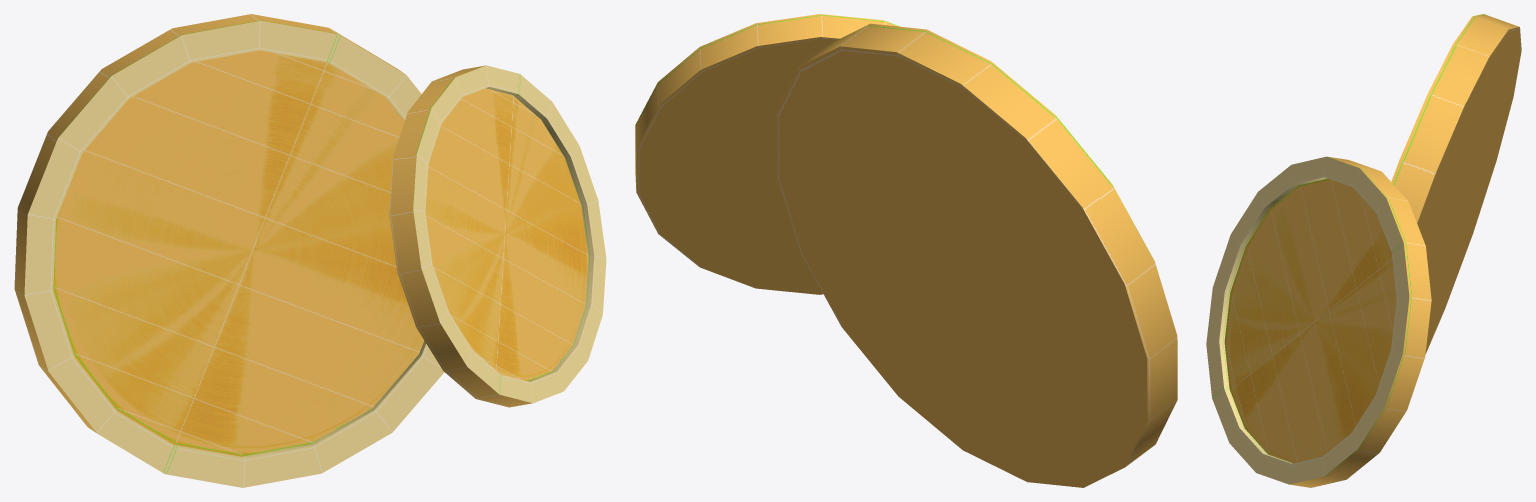
Rendered from Money Coin.fbx.
3 views of the same model, side by side, from view 1: azimuth 30°, elevation 25°; view 2: azimuth 150°, elevation 25°; view 3: azimuth 270°, elevation 25° (orthographic). The views are drawn at different scales.
Visible parts, largest first — view 1: Cylinder013, Cylinder015; view 2: Cylinder013, Cylinder015; view 3: Cylinder015, Cylinder013.
Part boxes in pixels (box(x1,y1,x2,y2)): Cylinder013: box(14, 14, 444, 487); Cylinder015: box(389, 65, 606, 407); Cylinder013: box(776, 23, 1177, 487); Cylinder015: box(635, 14, 899, 294); Cylinder015: box(1206, 156, 1431, 487); Cylinder013: box(1391, 14, 1521, 354).
Size of the model in its own units: 8.43 by 6.37 by 4.45.
Materials: 1 (1 with a texture image).
